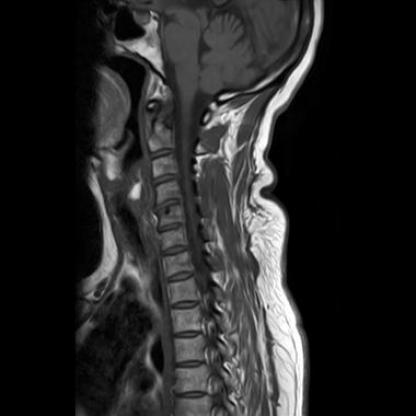Disc Bulgerotation: (156, 221, 185, 234)
Disc Protrusionrotation: (155, 197, 183, 212), (161, 243, 188, 258)
